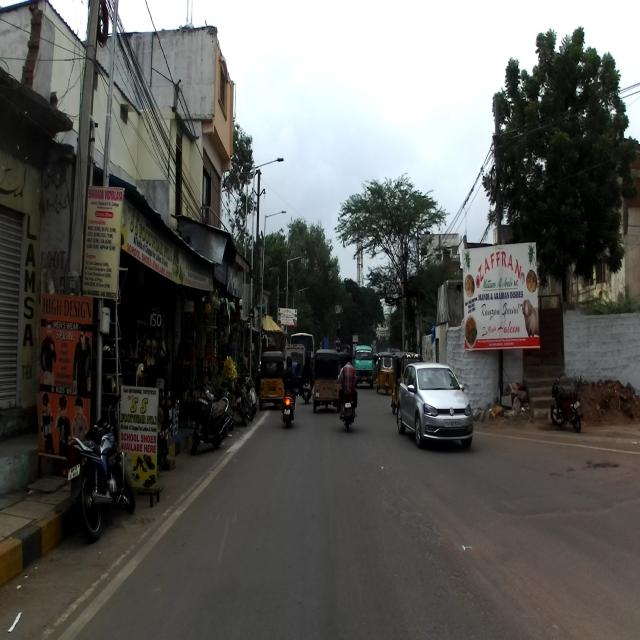car: (396, 361, 473, 451)
motorcycle: (61, 393, 135, 540), (550, 372, 583, 432)
scooter: (189, 383, 230, 457)
